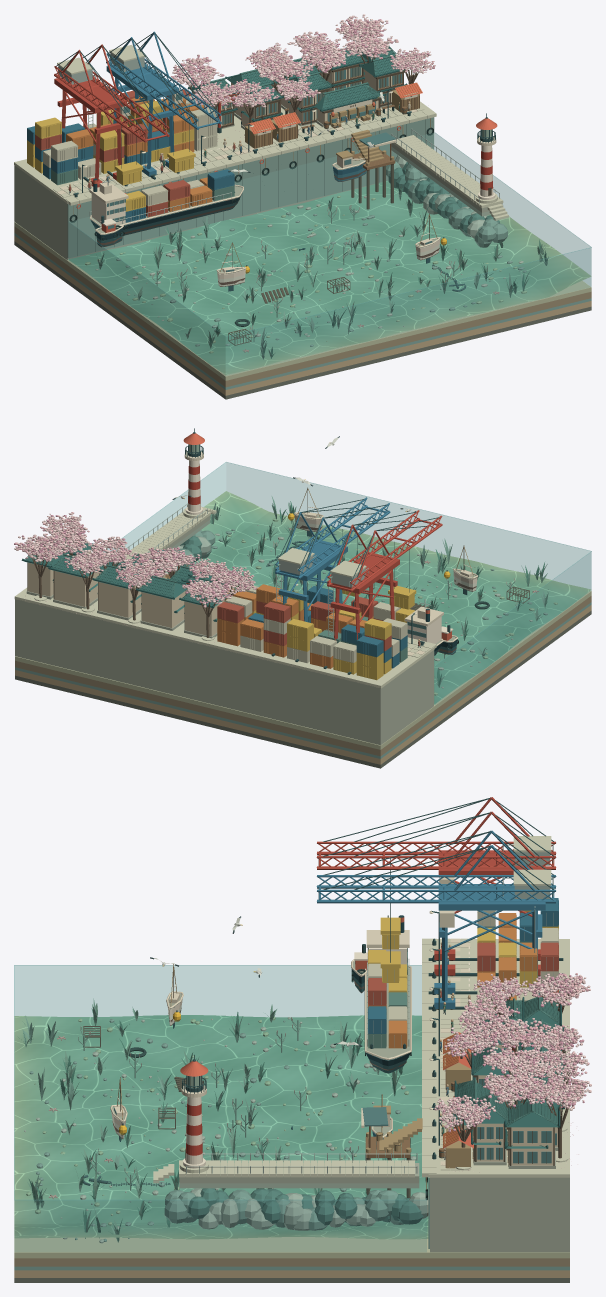
The model's file is sakura_harbor.glb.
3 views of the same model, one above another, from view 1: azimuth 30°, elevation 25°; view 2: azimuth 150°, elevation 25°; view 3: azimuth 270°, elevation 25° (orthographic). The views are drawn at different scales.
Parts seen in each view (by area): view 1: 01_STRATIFIED_BASE__bottom, 13_WATER__water_side, 02_QUAY__wall, 02_QUAY__concrete_light, 07_CHERRY_BLOSSOMS__blossom_pale, 01_STRATIFIED_BASE__stratum_clay, 04_CRANE_RED__crane_red, 04_CRANE_BLUE__crane_blue, 01_STRATIFIED_BASE__stratum_ochre, 01_STRATIFIED_BASE__sand, 02_QUAY__concrete, 07_CHERRY_BLOSSOMS__blossom_deep (+45 smaller); view 2: 02_QUAY__concrete, 01_STRATIFIED_BASE__bottom, 13_WATER__water_side, 05_SAKURA_VILLAGE__wall_plaster, 07_CHERRY_BLOSSOMS__blossom_pale, 01_STRATIFIED_BASE__stratum_clay, 04_CRANE_RED__crane_red, 01_STRATIFIED_BASE__stratum_ochre, 02_QUAY__concrete_light, 04_CRANE_BLUE__crane_blue, 01_STRATIFIED_BASE__sand, 03_CONTAINER_YARD__container_orange (+25 smaller); view 3: 01_STRATIFIED_BASE__bottom, 13_WATER__water_side, 02_QUAY__concrete, 01_STRATIFIED_BASE__sand, 02_QUAY__concrete_light, 04_CRANE_BLUE__crane_blue, 07_CHERRY_BLOSSOMS__blossom_pale, 04_CRANE_RED__crane_red, 01_STRATIFIED_BASE__stratum_clay, 01_STRATIFIED_BASE__stratum_ochre, 10_BREAKWATER__concrete_light, 07_CHERRY_BLOSSOMS__blossom (+37 smaller).
Boxes of the visible parts, x1,y1,x2,y2 form: 01_STRATIFIED_BASE__bottom: [68, 180, 591, 374]; 13_WATER__water_side: [69, 132, 591, 375]; 02_QUAY__wall: [67, 117, 434, 258]; 02_QUAY__concrete_light: [14, 101, 436, 205]; 07_CHERRY_BLOSSOMS__blossom_pale: [170, 14, 435, 137]; 01_STRATIFIED_BASE__stratum_clay: [14, 226, 591, 387]; 04_CRANE_RED__crane_red: [54, 44, 169, 187]; 04_CRANE_BLUE__crane_blue: [106, 31, 221, 176]; 01_STRATIFIED_BASE__stratum_ochre: [14, 235, 591, 395]; 01_STRATIFIED_BASE__sand: [14, 222, 591, 380]; 02_QUAY__concrete: [14, 165, 374, 260]; 07_CHERRY_BLOSSOMS__blossom_deep: [172, 16, 434, 106]; 02_QUAY__concrete: [15, 599, 433, 745]; 01_STRATIFIED_BASE__bottom: [194, 491, 591, 704]; 13_WATER__water_side: [103, 462, 591, 704]; 05_SAKURA_VILLAGE__wall_plaster: [27, 549, 224, 636]; 07_CHERRY_BLOSSOMS__blossom_pale: [15, 513, 254, 642]; 01_STRATIFIED_BASE__stratum_clay: [15, 596, 591, 756]; 04_CRANE_RED__crane_red: [327, 510, 442, 640]; 01_STRATIFIED_BASE__stratum_ochre: [15, 605, 591, 764]; 02_QUAY__concrete_light: [14, 578, 436, 688]; 04_CRANE_BLUE__crane_blue: [275, 497, 390, 622]; 01_STRATIFIED_BASE__sand: [15, 591, 591, 749]; 03_CONTAINER_YARD__container_orange: [217, 584, 366, 668]; 01_STRATIFIED_BASE__bottom: [14, 1015, 428, 1239]; 13_WATER__water_side: [14, 965, 426, 1251]; 02_QUAY__concrete: [430, 1177, 569, 1252]; 01_STRATIFIED_BASE__sand: [14, 1237, 569, 1258]; 02_QUAY__concrete_light: [422, 938, 569, 1177]; 04_CRANE_BLUE__crane_blue: [316, 830, 556, 1008]; 07_CHERRY_BLOSSOMS__blossom_pale: [434, 972, 591, 1173]; 04_CRANE_RED__crane_red: [316, 797, 556, 975]; 01_STRATIFIED_BASE__stratum_clay: [14, 1258, 569, 1266]; 01_STRATIFIED_BASE__stratum_ochre: [14, 1270, 569, 1277]; 10_BREAKWATER__concrete_light: [153, 1160, 414, 1183]; 07_CHERRY_BLOSSOMS__blossom: [437, 973, 589, 1171].
Bounding box in the file's own units: 20.67 × 10.87 × 20.81.
Materials: 64 (1 with a texture image).
